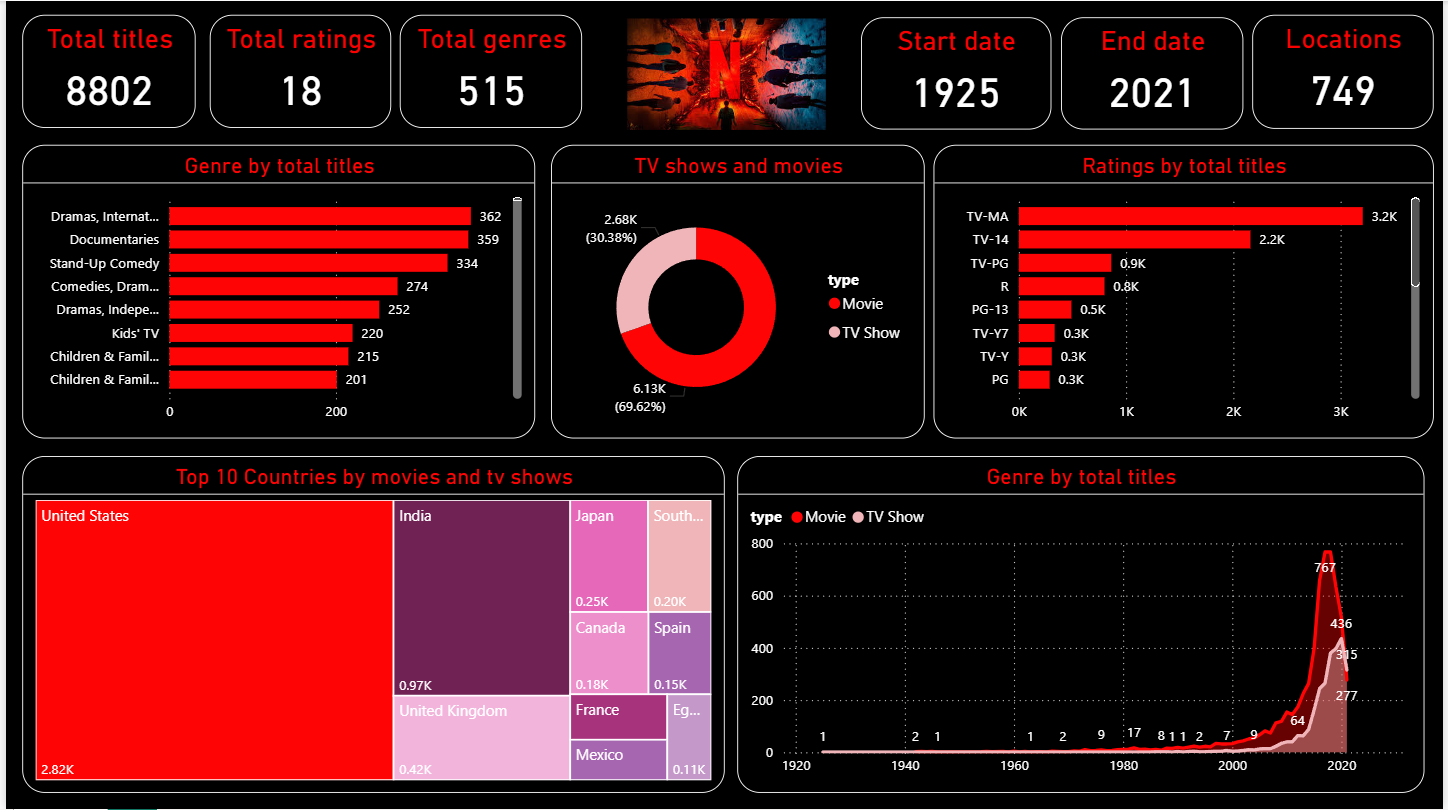

What the dashboard file says about the page in this screenshot:
{"tool":"powerbi","page":{"name":"Page 1","canvas":[1280,720],"ordinal":0},"visuals":[{"type":"donutChart","title":"TV shows and movies","fields":{"Y":["CountNonNull(netflix_titles.show_id)"],"Category":["netflix_titles.type"]},"box":[484.9,127.9,332.6,261.6],"z":0},{"type":"barChart","title":"Ratings by total titles","fields":{"Category":["netflix_titles.rating"],"Y":["Count(netflix_titles.show_id)"]},"box":[825.6,127.9,445.4,261.6],"z":1},{"type":"barChart","title":"Genre by total titles","fields":{"Y":["Count(netflix_titles.show_id)"],"Category":["netflix_titles.listed_in"]},"box":[14,127.9,457,261.6],"z":2},{"type":"areaChart","title":"Genre by total titles","fields":{"Y":["Count(netflix_titles.show_id)"],"Category":["netflix_titles.release_year"],"Series":["netflix_titles.type"]},"box":[651.2,404.7,611.6,300],"z":3},{"type":"treemap","title":"Top 10 Countries by movies and tv shows","fields":{"Group":["netflix_titles.country"],"Values":["Count(netflix_titles.show_id)"]},"box":[14,404.7,625.6,300],"z":4},{"type":"image","box":[522.1,15.1,239.5,98.8],"z":5},{"type":"card","title":"Total titles","fields":{"Values":["Count(netflix_titles.title)"]},"box":[14,12.8,154.7,101.2],"z":11},{"type":"card","title":"Total ratings","fields":{"Values":["Count(netflix_titles.rating)"]},"box":[181.4,12.8,161.6,101.2],"z":12},{"type":"card","title":"Total genres","fields":{"Values":["Count(netflix_titles.listed_in)"]},"box":[351.2,12.8,162.8,101.2],"z":13},{"type":"card","title":"Start date","fields":{"Values":["Min(netflix_titles.release_year)"]},"box":[769.2,14.5,161.4,100.2],"z":14},{"type":"card","title":"End date","fields":{"Values":["Max(netflix_titles.release_year)"]},"box":[939.5,14.5,162.5,100.2],"z":15},{"type":"card","title":"Locations","fields":{"Values":["Count(netflix_titles.country)"]},"box":[1109.8,12.2,161.4,101.3],"z":16}]}

Visuals, with their boxes in screenshot pixels (x1, y1, x2, y2), scaled from the page's 1280x720 canvas onto the 1448x810 screenshot:
"TV shows and movies" donutChart: x1=549 y1=144 x2=925 y2=438
"Ratings by total titles" barChart: x1=934 y1=144 x2=1438 y2=438
"Genre by total titles" barChart: x1=16 y1=144 x2=533 y2=438
"Genre by total titles" areaChart: x1=737 y1=455 x2=1429 y2=793
"Top 10 Countries by movies and tv shows" treemap: x1=16 y1=455 x2=724 y2=793
image: x1=591 y1=17 x2=862 y2=128
"Total titles" card: x1=16 y1=14 x2=191 y2=128
"Total ratings" card: x1=205 y1=14 x2=388 y2=128
"Total genres" card: x1=397 y1=14 x2=581 y2=128
"Start date" card: x1=870 y1=16 x2=1053 y2=129
"End date" card: x1=1063 y1=16 x2=1247 y2=129
"Locations" card: x1=1255 y1=14 x2=1438 y2=128
